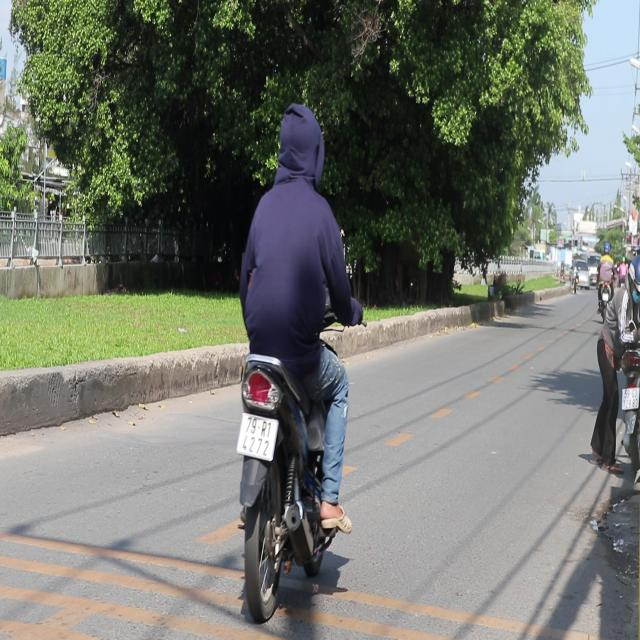helmet: (272, 103, 324, 187)
licenseplate: (229, 97, 357, 615)
nohelmet: (236, 414, 277, 459), (621, 388, 639, 410)
